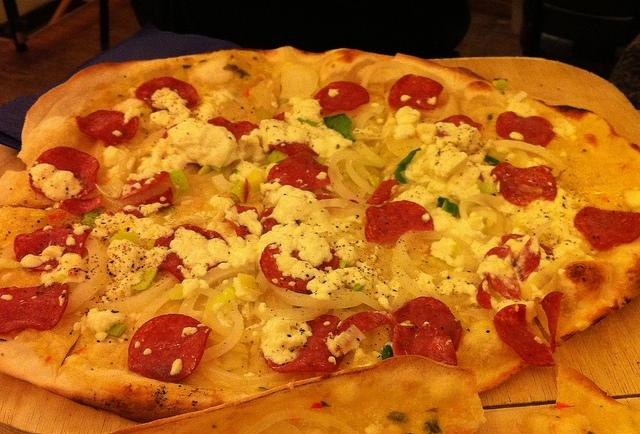onion: (90, 268, 180, 314), (206, 278, 266, 343), (64, 236, 108, 316), (396, 230, 448, 286), (200, 299, 243, 362), (328, 149, 370, 205), (270, 284, 362, 308), (391, 254, 434, 298), (133, 290, 170, 334), (467, 206, 506, 244), (331, 287, 387, 312), (266, 299, 328, 321), (236, 160, 264, 206), (234, 55, 266, 92), (346, 156, 376, 195), (492, 140, 553, 158), (349, 140, 386, 168), (178, 288, 214, 316), (367, 68, 412, 85), (458, 196, 486, 220), (139, 128, 170, 149), (198, 166, 233, 184), (468, 211, 496, 231), (353, 158, 377, 180), (448, 272, 482, 284), (356, 112, 381, 128), (356, 134, 383, 140), (368, 176, 380, 187)
